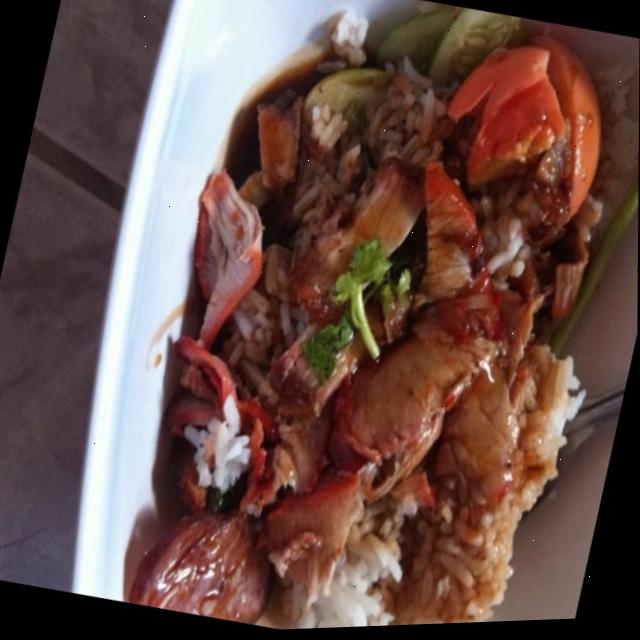猪肉菜式: (15, 0, 640, 639)
